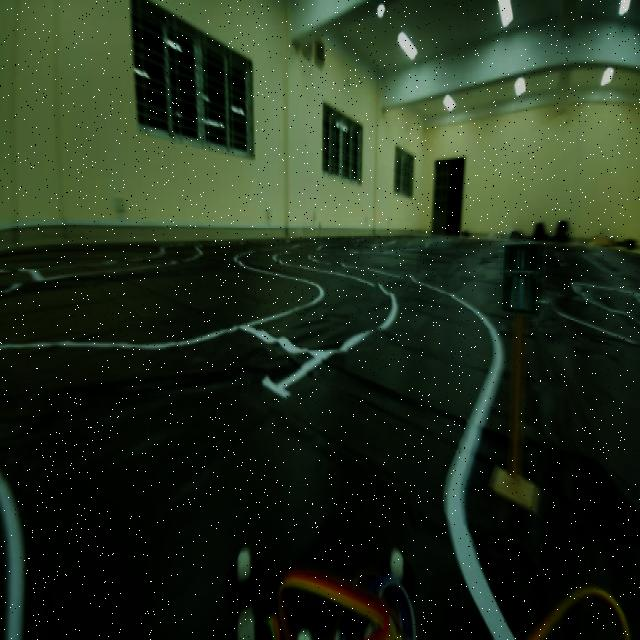highway_entry: (494, 226, 548, 324)
